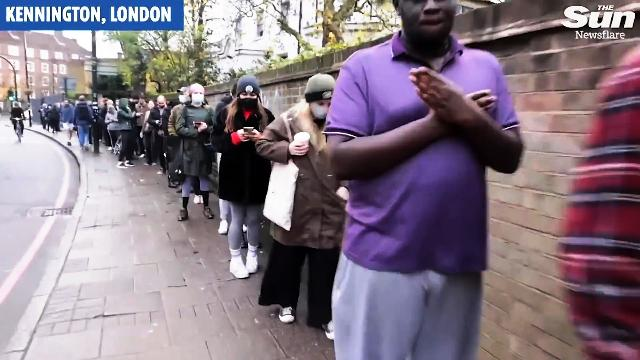berdiri: (329, 2, 526, 360), (258, 65, 370, 345), (216, 70, 284, 282), (170, 70, 214, 220)
